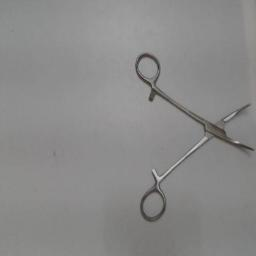Crile Artery Forceps: (132, 47, 254, 223)
